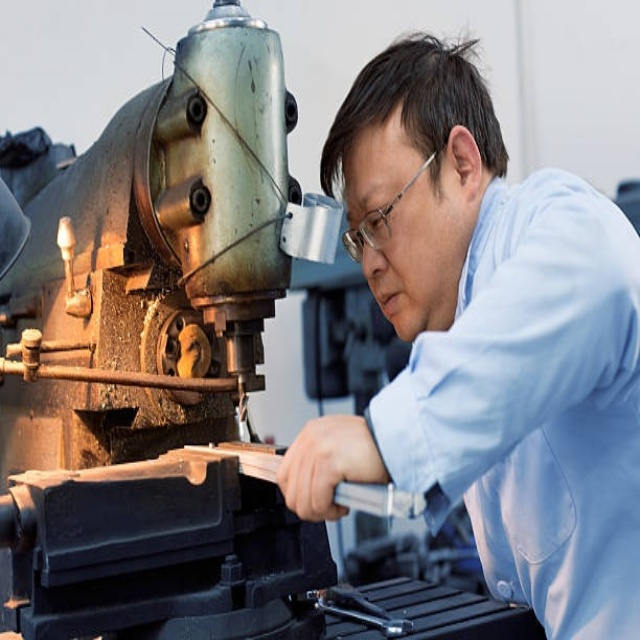Gafas: (340, 149, 440, 264)
Sin_guantes: (274, 413, 371, 524)
Sin_mascara: (373, 279, 419, 337)
